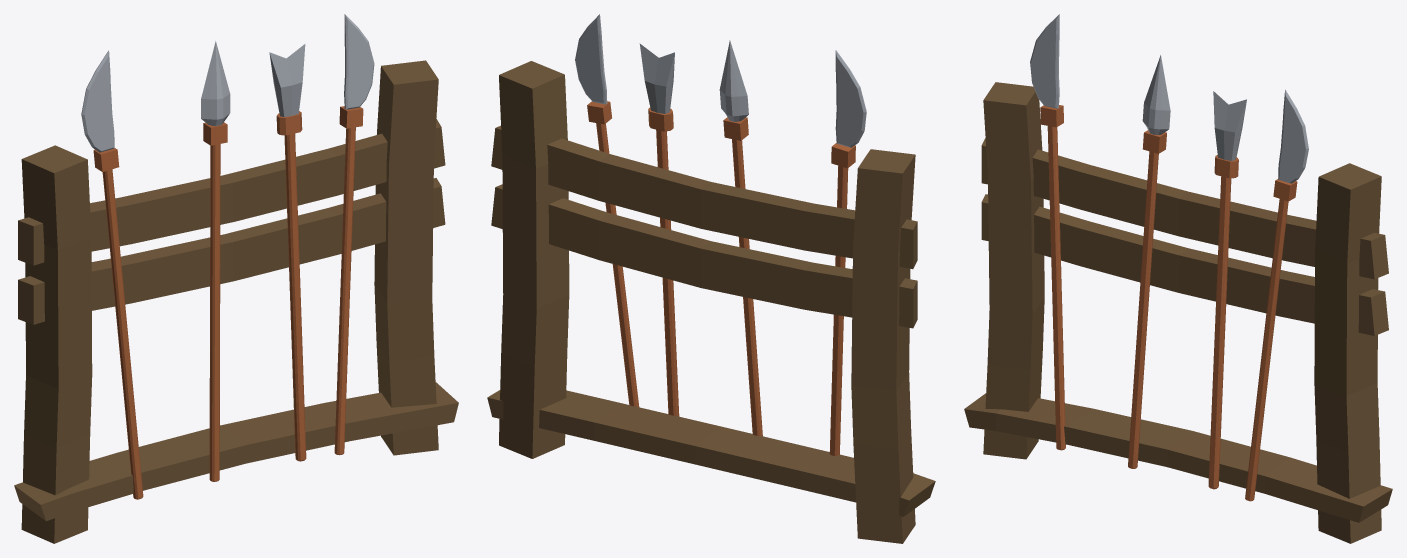
The model's file is Weapon'sStack_1.fbx.
3 views of the same model, side by side, from view 1: azimuth 30°, elevation 25°; view 2: azimuth 150°, elevation 25°; view 3: azimuth 330°, elevation 25° (orthographic). The views are drawn at different scales.
Visible parts, largest first — view 1: Weapon'sStack_1; view 2: Weapon'sStack_1; view 3: Weapon'sStack_1.
Part boxes in pixels (left/top/right/bottom): Weapon'sStack_1: left=14, top=14, right=458, bottom=543; Weapon'sStack_1: left=487, top=14, right=935, bottom=543; Weapon'sStack_1: left=964, top=14, right=1392, bottom=543.
Bounding box in the file's own units: 163 × 172 × 23.24.
